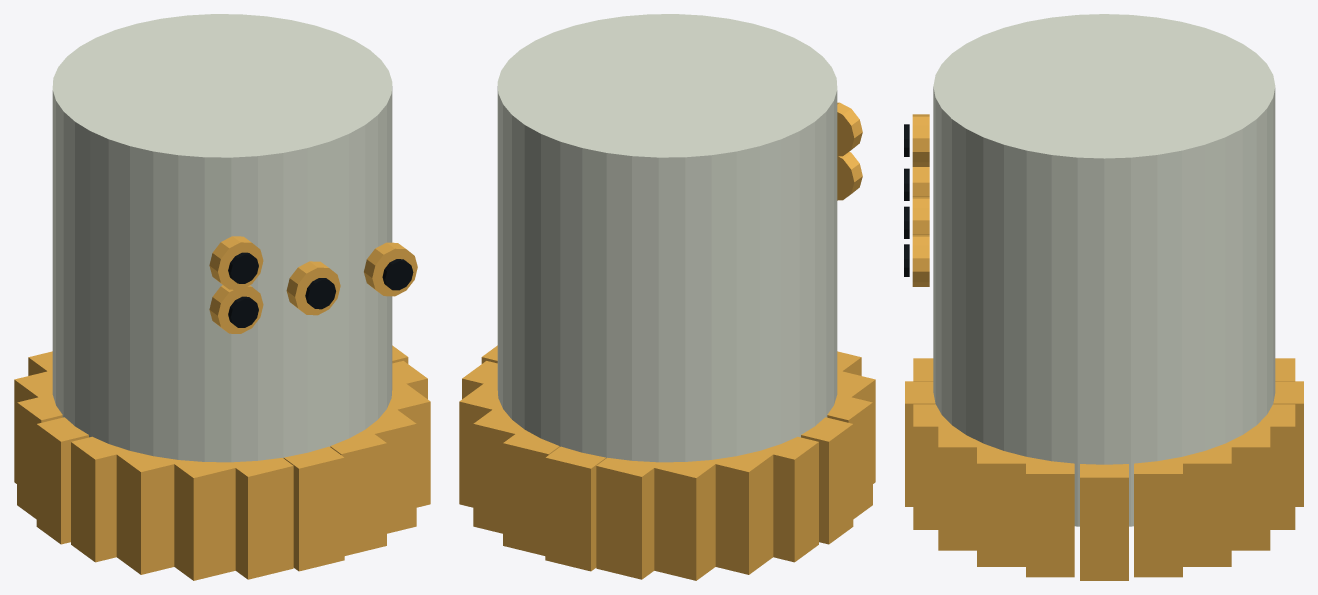
The model's file is 36_L92_TungstenCarbideCoringBit.fbx.
3 renders of one model, left to right at view 1: azimuth 30°, elevation 25°; view 2: azimuth 150°, elevation 25°; view 3: azimuth 270°, elevation 25°, orthographic.
Visible parts, largest first — view 1: L92_TungstenCarbideCoringBit_Part_0000, L92_TungstenCarbideCoringBit_Part_0001, L92_TungstenCarbideCoringBit_Part_0008, L92_TungstenCarbideCoringBit_Part_0006, L92_TungstenCarbideCoringBit_Part_0010, L92_TungstenCarbideCoringBit_Part_0004, L92_TungstenCarbideCoringBit_Part_0009, L92_TungstenCarbideCoringBit_Part_0005, L92_TungstenCarbideCoringBit_Part_0011, L92_TungstenCarbideCoringBit_Part_0007; view 2: L92_TungstenCarbideCoringBit_Part_0000, L92_TungstenCarbideCoringBit_Part_0001, L92_TungstenCarbideCoringBit_Part_0002, L92_TungstenCarbideCoringBit_Part_0010, L92_TungstenCarbideCoringBit_Part_0004; view 3: L92_TungstenCarbideCoringBit_Part_0000, L92_TungstenCarbideCoringBit_Part_0001, L92_TungstenCarbideCoringBit_Part_0002, L92_TungstenCarbideCoringBit_Part_0008, L92_TungstenCarbideCoringBit_Part_0010, L92_TungstenCarbideCoringBit_Part_0006, L92_TungstenCarbideCoringBit_Part_0004.
Boxes of the visible parts, <box> form: L92_TungstenCarbideCoringBit_Part_0000: <box>52,14,392,462</box>; L92_TungstenCarbideCoringBit_Part_0001: <box>14,345,430,580</box>; L92_TungstenCarbideCoringBit_Part_0008: <box>364,242,417,296</box>; L92_TungstenCarbideCoringBit_Part_0006: <box>286,261,340,315</box>; L92_TungstenCarbideCoringBit_Part_0010: <box>209,236,263,289</box>; L92_TungstenCarbideCoringBit_Part_0004: <box>209,285,263,333</box>; L92_TungstenCarbideCoringBit_Part_0009: <box>382,259,413,290</box>; L92_TungstenCarbideCoringBit_Part_0005: <box>228,296,258,327</box>; L92_TungstenCarbideCoringBit_Part_0011: <box>228,252,258,283</box>; L92_TungstenCarbideCoringBit_Part_0007: <box>305,278,335,309</box>; L92_TungstenCarbideCoringBit_Part_0000: <box>497,14,837,462</box>; L92_TungstenCarbideCoringBit_Part_0001: <box>473,345,875,580</box>; L92_TungstenCarbideCoringBit_Part_0002: <box>459,361,505,507</box>; L92_TungstenCarbideCoringBit_Part_0010: <box>837,102,862,156</box>; L92_TungstenCarbideCoringBit_Part_0004: <box>837,151,862,200</box>; L92_TungstenCarbideCoringBit_Part_0000: <box>933,14,1275,526</box>; L92_TungstenCarbideCoringBit_Part_0001: <box>905,358,1303,580</box>; L92_TungstenCarbideCoringBit_Part_0002: <box>1134,441,1231,577</box>; L92_TungstenCarbideCoringBit_Part_0008: <box>912,234,929,286</box>; L92_TungstenCarbideCoringBit_Part_0010: <box>912,114,929,166</box>; L92_TungstenCarbideCoringBit_Part_0006: <box>912,196,929,234</box>; L92_TungstenCarbideCoringBit_Part_0004: <box>912,167,929,196</box>.
Size of the model in its own units: 99 by 111 by 98.2.
